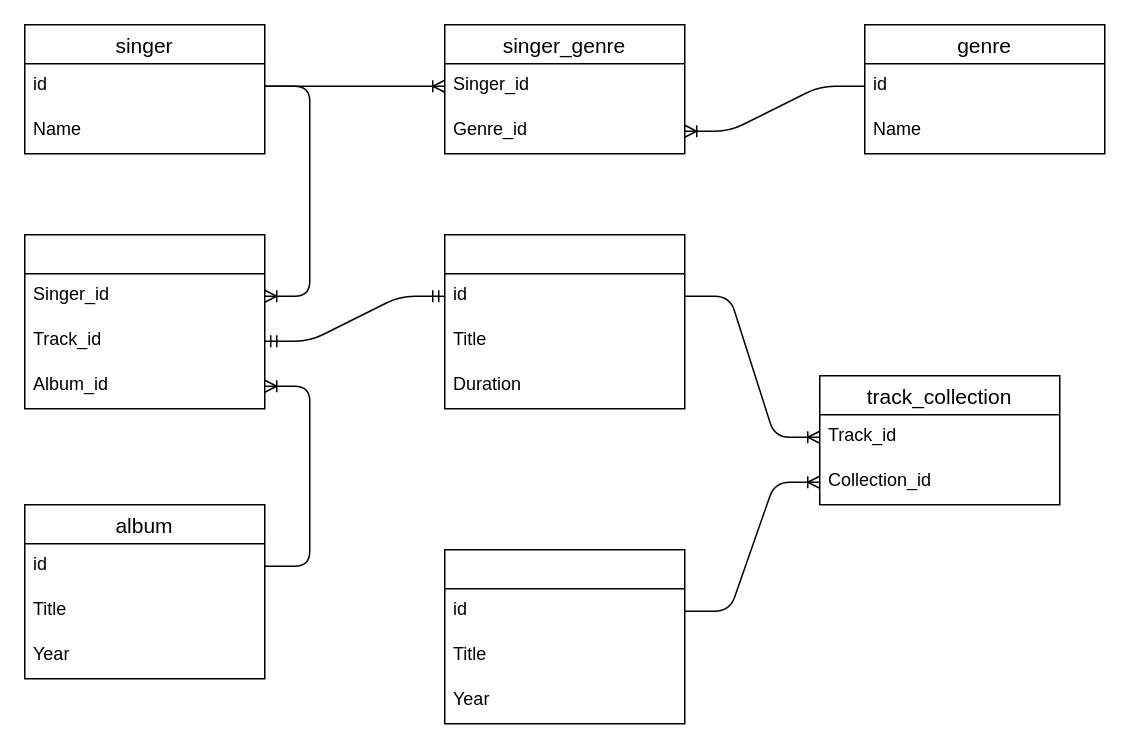
This 1130x749 diagram has some shape labels left out. The box of each missing label's shape, as (x1, y1, x2, y2) in pixels:
collection: (443, 548, 685, 724)
singer_album_track: (23, 233, 265, 409)
track: (443, 233, 685, 409)
